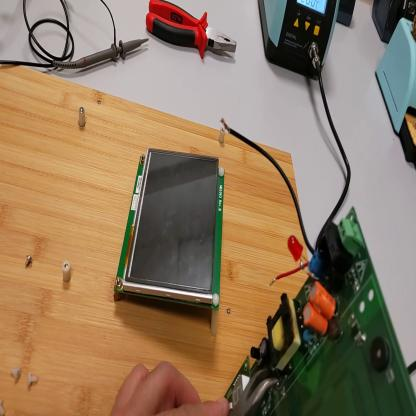hand: (111, 367, 228, 416)
low voltage board: (224, 120, 416, 416)
oscilloscope probe tip: (54, 37, 149, 69)
pliers: (145, 2, 236, 61), (230, 369, 280, 416)
socket: (373, 2, 416, 44), (337, 2, 356, 27)
welder base: (375, 14, 416, 164)
welder station: (258, 2, 341, 78)
working area: (1, 62, 311, 414)
